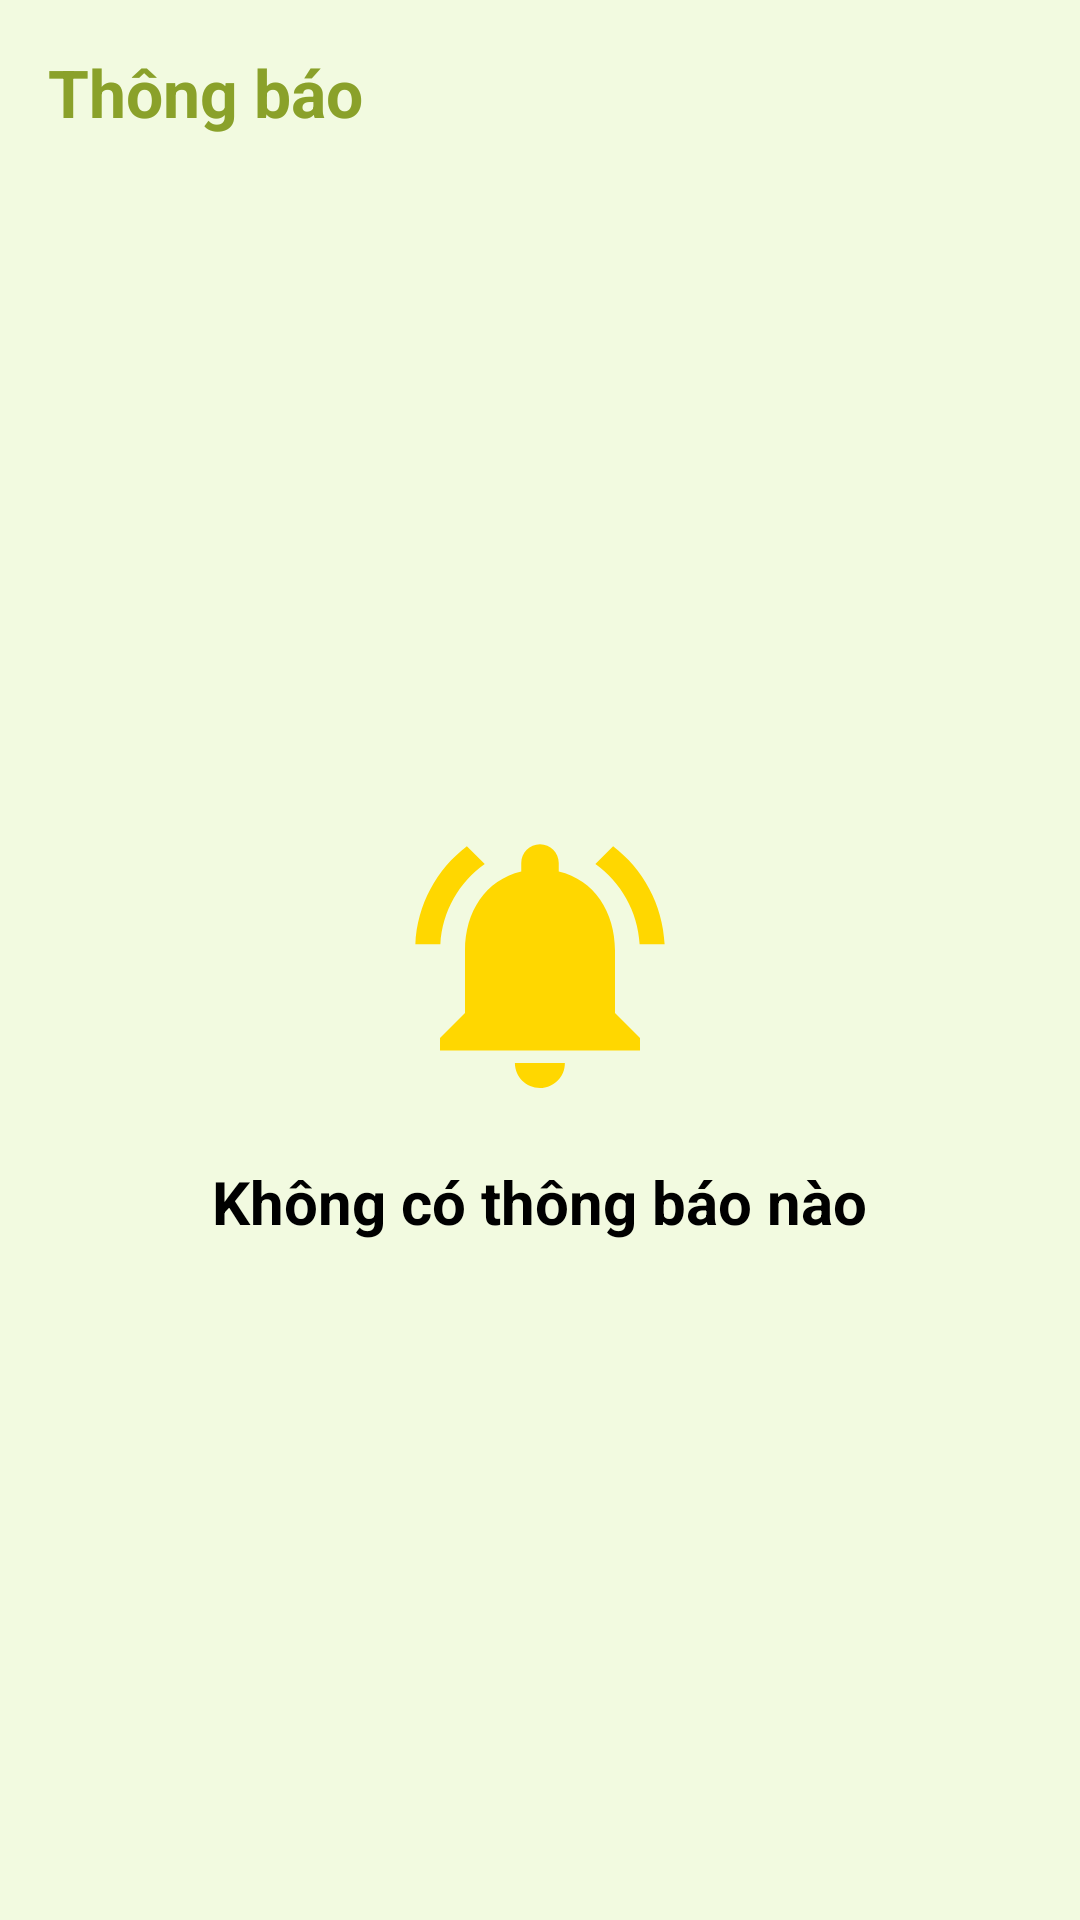

Screen size 1080 x 1920. Icon name, then its center in pixels as (x,y):
notifications: (540,966)
